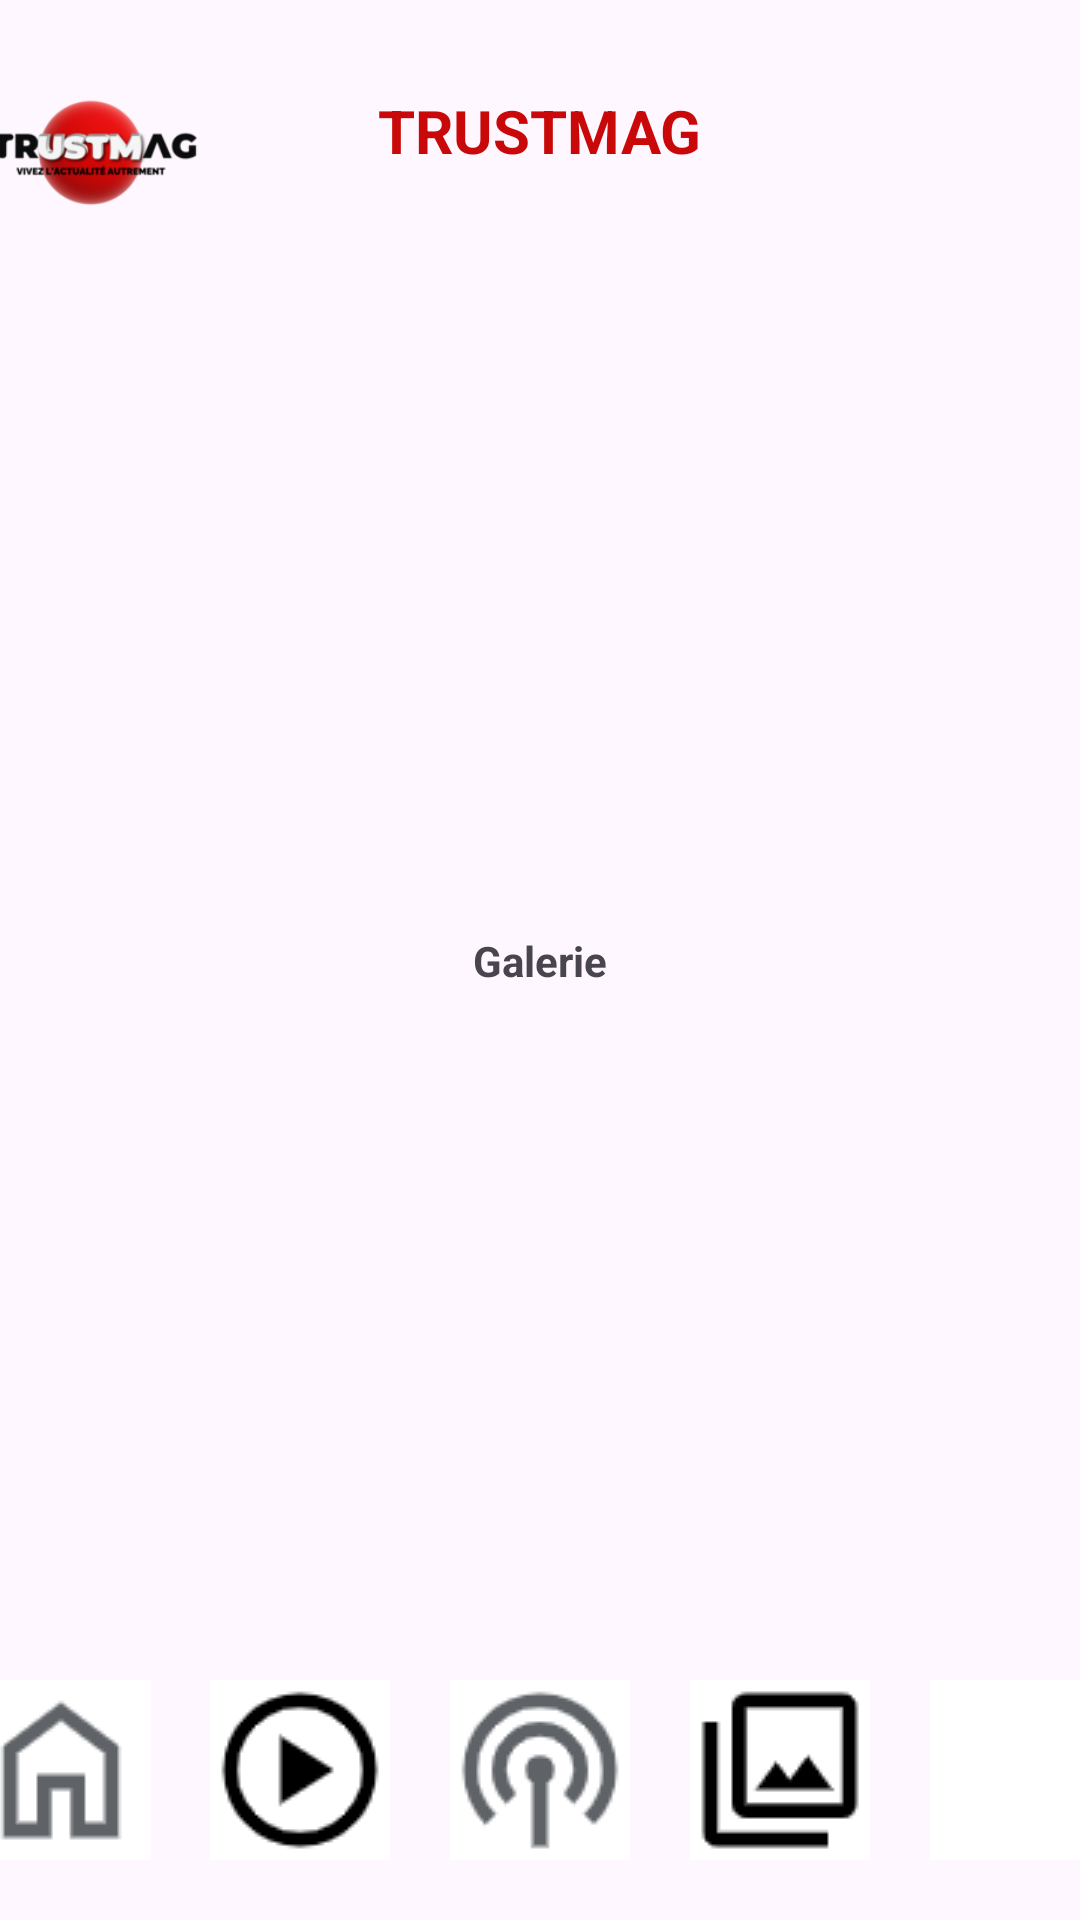

Where icons sit on this 1080*1920 app screen, as (x1, y1, x2, y2):
Galerie: (701, 1691, 859, 1849)
Podcasts: (462, 1692, 618, 1849)
Vidéos: (221, 1691, 379, 1849)
